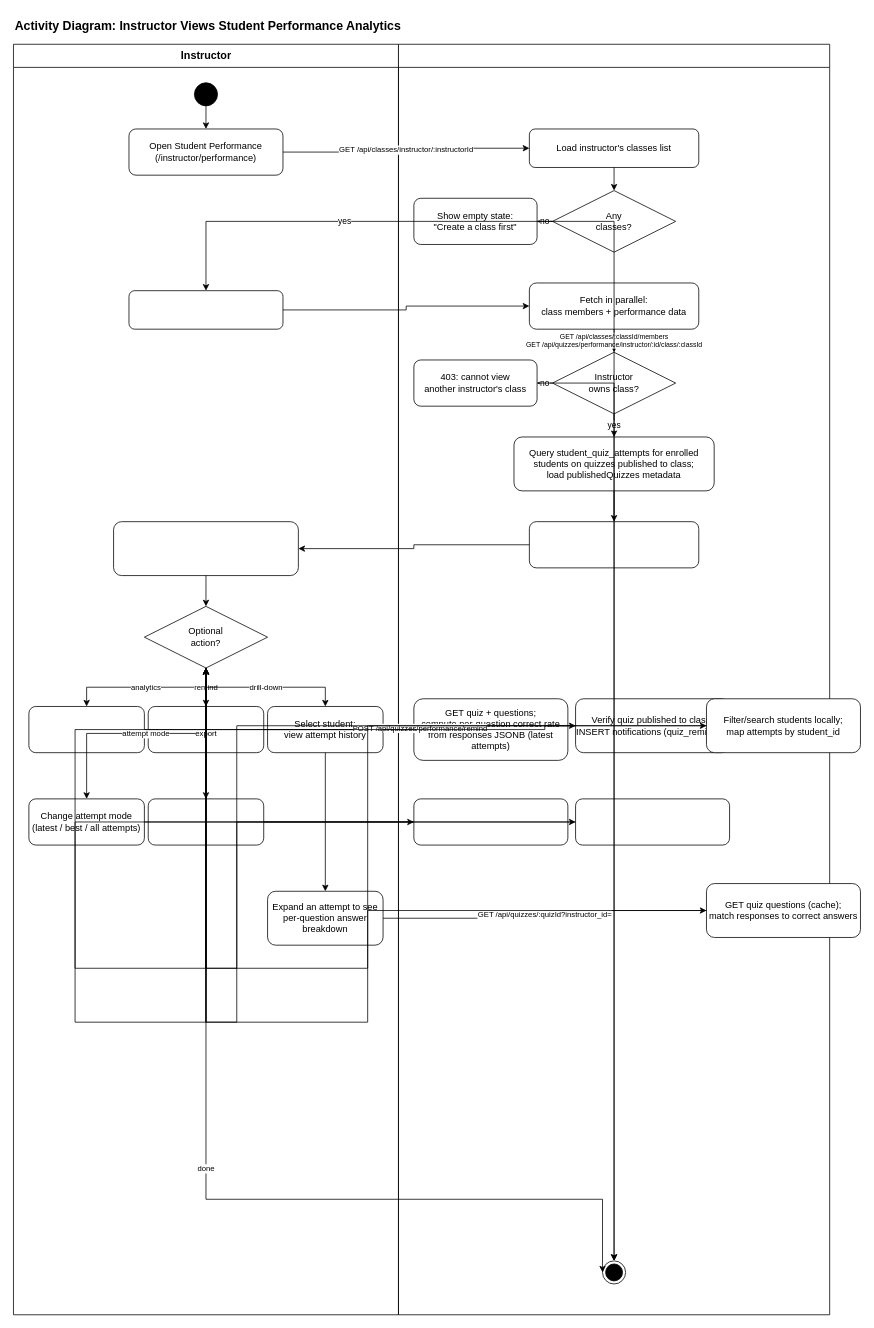
Some shapes in this 874 by 1328 pixel diagram are drawn without their labels. Here are the shapes that lost their labels. From the top down, the box of each, then its label:
(128, 290, 283, 329): Select a class from dropdown
(113, 521, 298, 576): Review quiz overview: completion %, class average, not-attempted counts
(529, 521, 699, 568): Aggregate grades client-side; build overview rows (completion, averages)
(398, 44, 830, 1315): EduAIGames System
(28, 706, 144, 753): Open question analytics for a quiz
(147, 706, 264, 753): Open not-attempted list; notify student(s)
(147, 798, 264, 845): Export quiz grades to CSV file
(413, 798, 568, 845): Re-run aggregateGrades (no new API call)
(575, 798, 730, 845): Build CSV in browser; download file (client-only)
